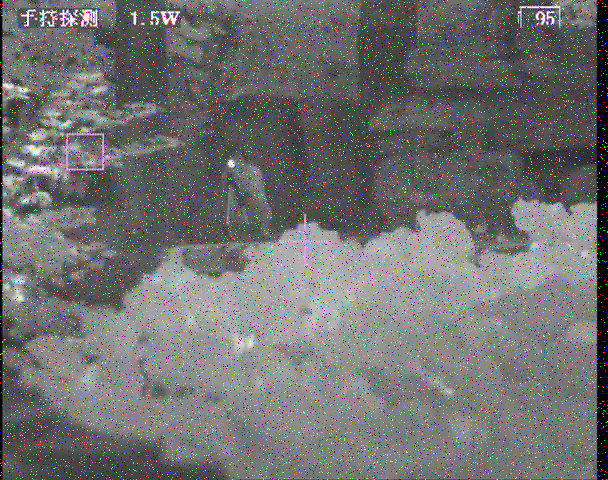my: (226, 159, 237, 171)
